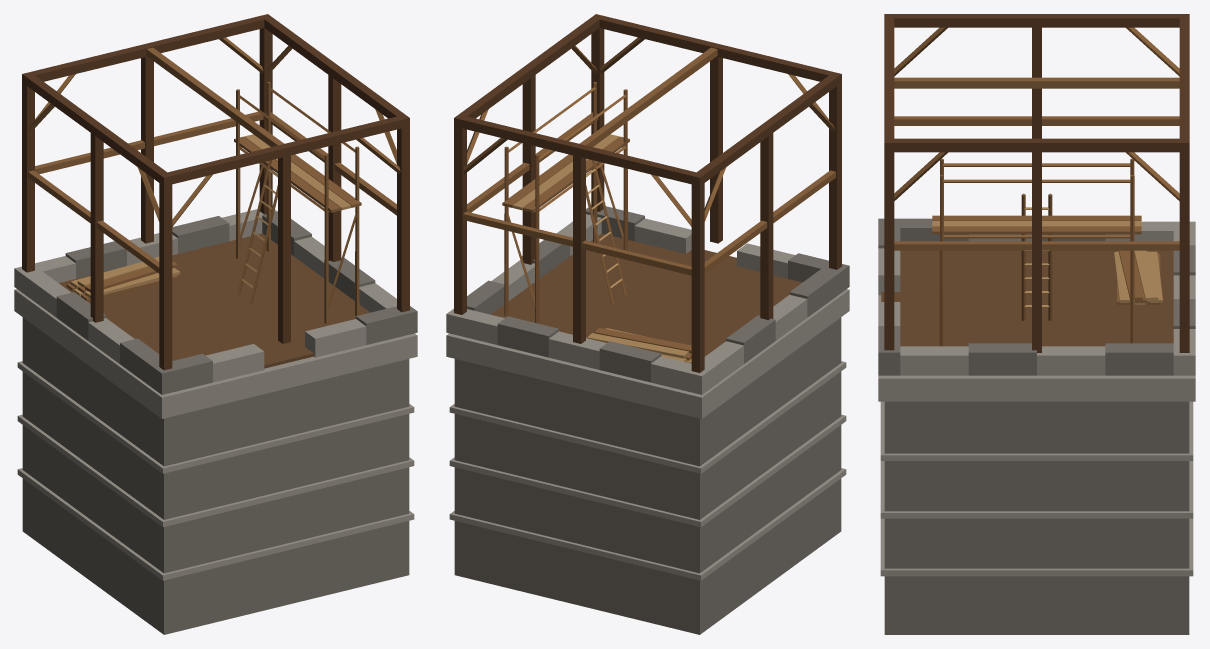
Rendered from site_5x5_2.glb.
The picture shows the model from 3 angles, left to right: view 1: azimuth 30°, elevation 25°; view 2: azimuth 150°, elevation 25°; view 3: azimuth 270°, elevation 25°; orthographic projection. The views are drawn at different scales.
Parts seen in each view (by area): view 1: site_5x5_2; view 2: site_5x5_2; view 3: site_5x5_2.
Part boxes in pixels (x1=…): site_5x5_2: x1=14, y1=14, x2=417, y2=634; site_5x5_2: x1=446, y1=14, x2=849, y2=634; site_5x5_2: x1=878, y1=14, x2=1195, y2=634.
Size of the model in its own units: 5 by 8.55 by 5.
